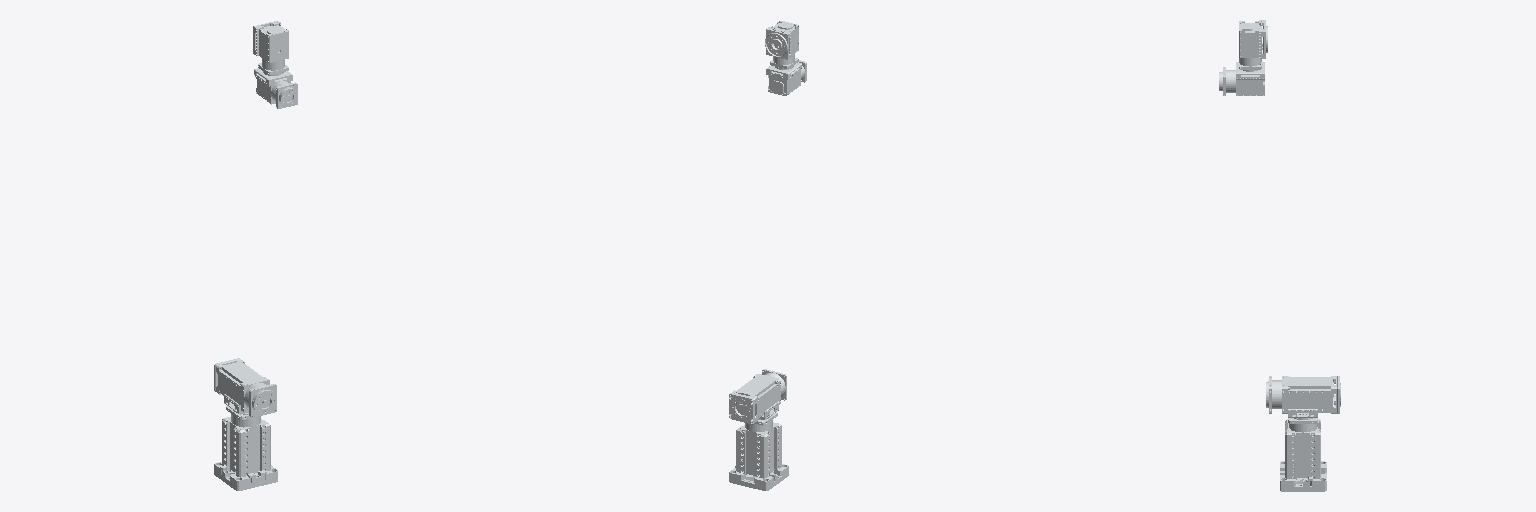
The robot description file, URDF, robot "single_arm_v19":
<?xml version="1.0" encoding="utf-8"?>
<!-- This URDF was automatically created by SolidWorks to URDF Exporter! Originally created by Stephen Brawner ([email redacted]) 
     Commit Version: 1.6.0-4-g7f85cfe  Build Version: 1.6.7995.38578
     For more information, please see http://wiki.ros.org/sw_urdf_exporter -->
<robot
  name="single_arm_v19">
  <link name="dummy"/>
  <joint name="dummy_joint" type="fixed">
    <parent link="dummy"/>
    <child link="base_link"/>
    </joint>
  <link name='base_link'>
  <!-- <link
    name="base_link"> -->
    <inertial>
      <origin
        xyz="-0.00010098 -0.00035109 0.054127"
        rpy="0 0 0" />
      <mass
        value="2.94316" />
      <inertia
        ixx="0.00082016"
        ixy="3.555E-10"
        ixz="-4.1821E-06"
        iyy="0.00081979"
        iyz="-1.4527E-07"
        izz="0.00035328" />
    </inertial>
    <visual>
      <origin
        xyz="0 0 0"
        rpy="0 0 0" />
      <geometry>
        <mesh
          filename="package://single_arm_v19/meshes/base_link.STL" />
      </geometry>
      <material
        name="">
        <color
          rgba="0.89804 0.91765 0.92941 1" />
      </material>
    </visual>
    <collision>
      <origin
        xyz="0 0 0"
        rpy="0 0 0" />
      <geometry>
        <mesh
          filename="package://single_arm_v19/meshes/base_link.STL" />
      </geometry>
    </collision>
  </link>
  <link
    name="link1">
    <inertial>
      <origin
        xyz="3.305E-06 0.0036146 0.029085"
        rpy="0 0 0" />
      <mass
        value="0.93428" />
      <inertia
        ixx="0.00048112"
        ixy="-7.0827E-08"
        ixz="-3.5566E-10"
        iyy="0.00018986"
        iyz="4.1821E-06"
        izz="0.0004948" />
    </inertial>
    <visual>
      <origin
        xyz="0 0 0"
        rpy="0 0 0" />
      <geometry>
        <mesh
          filename="package://single_arm_v19/meshes/link1.STL" />
      </geometry>
      <material
        name="">
        <color
          rgba="0.89804 0.91765 0.92941 1" />
      </material>
    </visual>
    <collision>
      <origin
        xyz="0 0 0"
        rpy="0 0 0" />
      <geometry>
        <mesh
          filename="package://single_arm_v19/meshes/link1.STL" />
      </geometry>
    </collision>
  </link>
  <joint
    name="joint1"
    type="revolute">
    <origin
      xyz="0 0 0.1445"
      rpy="0 0 0" />
    <parent
      link="base_link" />
    <child
      link="link1" />
    <axis
      xyz="0 0 1" />
    <limit
      lower="-3.14"
      upper="3.14"
      effort="0"
      velocity="0" />
  </joint>
  <link
    name="link2">
    <inertial>
      <origin
        xyz="0.24012814792212095 2.033119680294267e-06 0.013246731868140266"
        rpy="0 0 0" />
      <mass
        value="0.4749073641101881"  />
      <inertia
        ixx="0.0009460509872811128"
        ixy="4.8638023001019324e-08"
        ixz="-0.0007595877946933649"
        iyy="0.004009204305271544"
        iyz="-1.7174352031655893e-08"
        izz="0.003258823651895408" />
    </inertial>
    <visual>
      <origin
        xyz="0 0 0"
        rpy="0 0 0" />
      <geometry>
        <mesh
          filename="package://dynamics/src/dynamics/meshes/single_arm_v19_2_19.0.STL" />
      </geometry>
      <material
        name="">
        <color
          rgba="0.89804 0.91765 0.92941 1" />
      </material>
    </visual>
    <collision>
      <origin
        xyz="0 0 0"
        rpy="0 0 0" />
      <geometry>
        <mesh
          filename="package://single_arm_v19/meshes/link2.STL" />
      </geometry>
    </collision>
  </link>
  <joint
    name="joint2"
    type="revolute">
    <origin
      xyz="0 -0.0685 0.0315"
      rpy="1.5708 0 0" />
    <parent
      link="link1" />
    <child
      link="link2" />
    <axis
      xyz="0 0 1" />
    <limit
      lower="-3.14"
      upper="3.14"
      effort="0"
      velocity="0" />
  </joint>
  <link
    name="link3">
    <inertial>
      <origin
        xyz="1.6081545635701008e-07 0.2311458503814522 0.012429772741547173"
        rpy="0 0 0" />
      <mass
        value="0.45080484472603943"  />
      <inertia
        ixx="0.0037004747161655596"
        ixy="1.710223955588212e-08"
        ixz="6.082684414896612e-10"
        iyy="0.0007261411775275594"
        iyz="-0.0005254952787559186"
        izz="0.003155523495572531" />
    </inertial>
    <visual>
      <origin
        xyz="0 0 0"
        rpy="0 0 0" />
      <geometry>
        <mesh
          filename="package://dynamics/src/dynamics/meshes/single_arm_v19_3_19.0.STL" />
      </geometry>
      <material
        name="">
        <color
          rgba="0.89804 0.91765 0.92941 1" />
      </material>
    </visual>
    <collision>
      <origin
        xyz="0 0 0"
        rpy="0 0 0" />
      <geometry>
        <mesh
          filename="package://single_arm_v19/meshes/link3.STL" />
      </geometry>
    </collision>
  </link>
  <joint
    name="joint3"
    type="revolute">
    <origin
      xyz="0 0.346667000820369 -0.039"
      rpy="-3.1416 0 1.5708" />
    <parent
      link="link2" />
    <child
      link="link3" />
    <axis
      xyz="0 0 1" />
    <limit
      lower="-3.14"
      upper="3.14"
      effort="0"
      velocity="0" />
  </joint>
  <link
    name="link4">
    <inertial>
      <origin
        xyz="-2.2204E-16 -0.01039 0.02404"
        rpy="0 0 0" />
      <mass
        value="0.36924" />
      <inertia
        ixx="9.4187E-05"
        ixy="1.14E-19"
        ixz="1.4502E-16"
        iyy="4.476E-05"
        iyz="-5.3346E-07"
        izz="0.0001027" />
    </inertial>
    <visual>
      <origin
        xyz="0 0 0"
        rpy="0 0 0" />
      <geometry>
        <mesh
          filename="package://single_arm_v19/meshes/link4.STL" />
      </geometry>
      <material
        name="">
        <color
          rgba="0.89804 0.91765 0.92941 1" />
      </material>
    </visual>
    <collision>
      <origin
        xyz="0 0 0"
        rpy="0 0 0" />
      <geometry>
        <mesh
          filename="package://single_arm_v19/meshes/link4.STL" />
      </geometry>
    </collision>
  </link>
  <joint
    name="joint4"
    type="revolute">
    <origin
      xyz="0.37323299917963104 0 -0.039"
      rpy="-3.1416 0 1.5708" />
    <parent
      link="link3" />
    <child
      link="link4" />
    <axis
      xyz="0 0 1" />
    <limit
      lower="-3.14"
      upper="3.14"
      effort="0"
      velocity="0" />
  </joint>
  <link
    name="link5">
    <inertial>
      <origin
        xyz="-0.010457 -5.5511E-17 0.028614"
        rpy="0 0 0" />
      <mass
        value="0.36821" />
      <inertia
        ixx="4.3878E-05"
        ixy="-1.0699E-19"
        ixz="-5.3346E-07"
        iyy="9.3658E-05"
        iyz="-1.4501E-16"
        izz="0.00010133" />
    </inertial>
    <visual>
      <origin
        xyz="0 0 0"
        rpy="0 0 0" />
      <geometry>
        <mesh
          filename="package://single_arm_v19/meshes/link5.STL" />
      </geometry>
      <material
        name="">
        <color
          rgba="0.89804 0.91765 0.92941 1" />
      </material>
    </visual>
    <collision>
      <origin
        xyz="0 0 0"
        rpy="0 0 0" />
      <geometry>
        <mesh
          filename="package://single_arm_v19/meshes/link5.STL" />
      </geometry>
    </collision>
  </link>
  <joint
    name="joint5"
    type="revolute">
    <origin
      xyz="0 -0.052 0.0286"
      rpy="1.5708 1.5708 0" />
    <parent
      link="link4" />
    <child
      link="link5" />
    <axis
      xyz="0 0 1" />
    <limit
      lower="-3.14"
      upper="3.14"
      effort="0"
      velocity="0" />
  </joint>
  <link
    name="link6">
    <inertial>
      <origin
        xyz="-5.3794E-07 1.1102E-16 0.0070001"
        rpy="0 0 0" />
      <mass
        value="0.025977" />
      <inertia
        ixx="2.2053E-06"
        ixy="1.7867E-22"
        ixz="-3.285E-23"
        iyy="2.2053E-06"
        iyz="-9.777E-22"
        izz="3.9777E-06" />
    </inertial>
    <visual>
      <origin
        xyz="0 0 0"
        rpy="0 0 0" />
      <geometry>
        <mesh
          filename="package://single_arm_v19/meshes/link6.STL" />
      </geometry>
      <material
        name="">
        <color
          rgba="0.89804 0.91765 0.92941 1" />
      </material>
    </visual>
    <collision>
      <origin
        xyz="0 0 0"
        rpy="0 0 0" />
      <geometry>
        <mesh
          filename="package://single_arm_v19/meshes/link6.STL" />
      </geometry>
    </collision>
  </link>
  <joint
    name="joint6"
    type="revolute">
    <origin
      xyz="-0.055 0 0.033001"
      rpy="3.1416 -1.5708 0" />
    <parent
      link="link5" />
    <child
      link="link6" />
    <axis
      xyz="0 0 -1" />
    <limit
      lower="-3.14"
      upper="3.14"
      effort="0"
      velocity="0" />
  </joint>
</robot>

--- What the picture shows (computed from the rendered views, not written in the file) ---
Views: 3 orthographic renders of the robot side by side, from view 1: azimuth 30°, elevation 25°; view 2: azimuth 150°, elevation 25°; view 3: azimuth 270°, elevation 25°.
Robot: single_arm_v19 — 8 links, 7 joints (6 revolute, 1 fixed); root link dummy; default pose: every joint at zero.
Visible links, largest first — view 1: base_link, link1, link4, link5; view 2: base_link, link1, link4, link5; view 3: base_link, link1, link4, link5.
Link boxes in pixels (x1,y1,x2,y2): base_link: [214, 406, 277, 490]; link1: [214, 358, 276, 417]; link4: [253, 21, 288, 74]; link5: [254, 68, 297, 108]; base_link: [729, 412, 788, 490]; link1: [729, 369, 786, 424]; link4: [765, 21, 798, 68]; link5: [766, 60, 806, 95]; base_link: [1280, 418, 1326, 491]; link1: [1266, 376, 1340, 417]; link4: [1239, 20, 1267, 69]; link5: [1219, 62, 1264, 95].
Size in the robot's own frame: 0.086 by 0.2231 by 0.9229 metres.
5 mesh visuals loaded from 7 distinct referenced files (5 binary STL); not drawn: 2 (reference not matched to a file when rendering).
